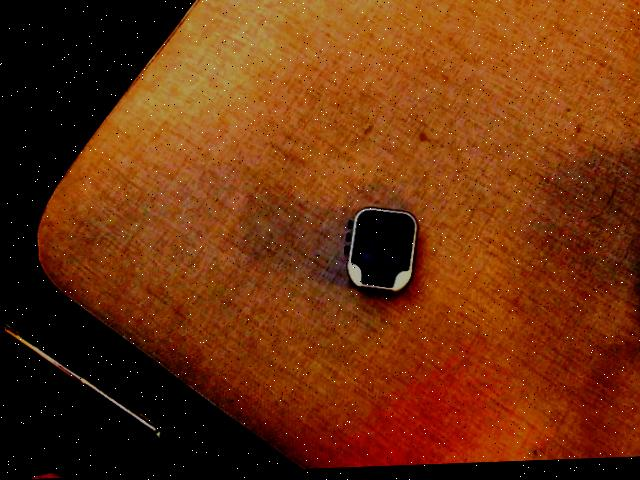adapter: (342, 208, 417, 298)
